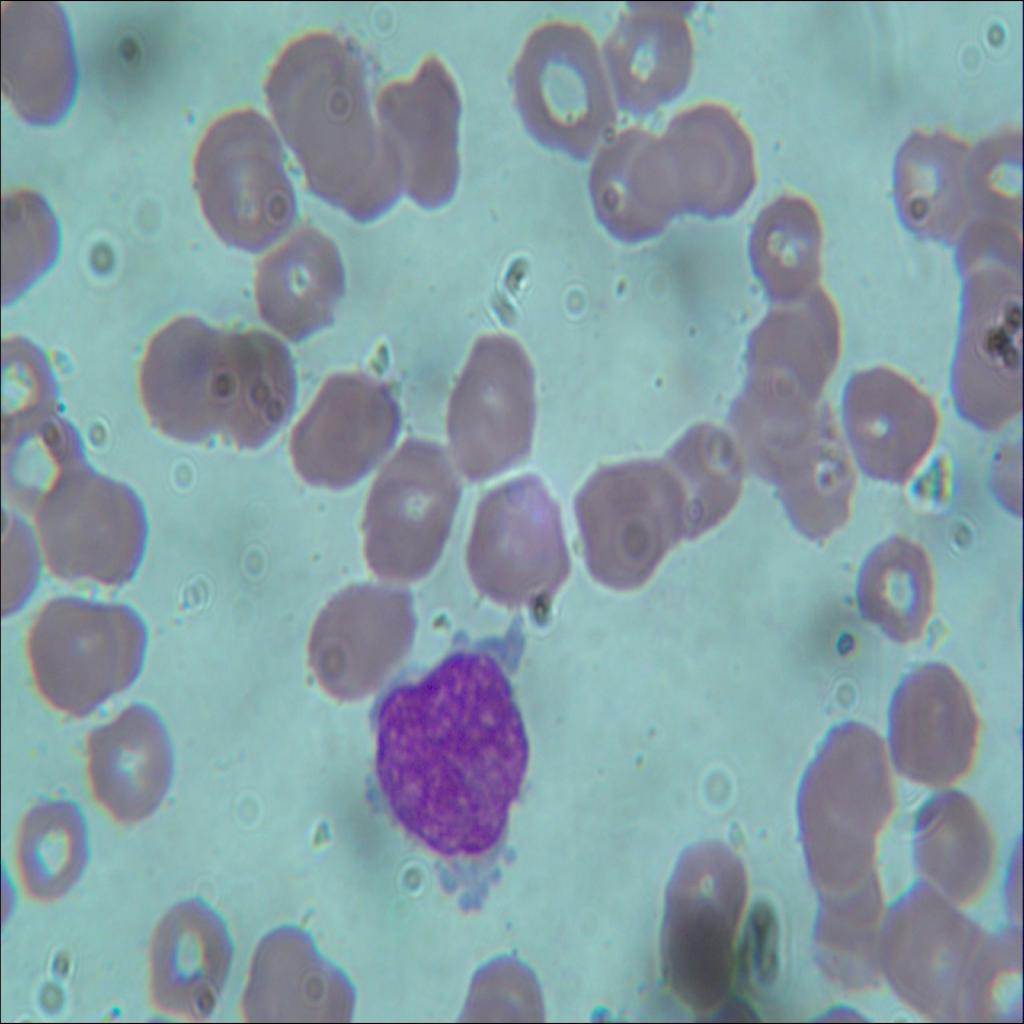Eritrosit: (466, 462, 575, 611), (286, 365, 404, 495), (435, 328, 533, 481), (506, 14, 614, 150), (298, 569, 418, 691), (360, 438, 458, 582), (834, 351, 938, 482), (571, 456, 669, 595), (33, 594, 139, 722), (381, 58, 470, 208), (888, 647, 984, 784), (39, 467, 144, 589), (648, 417, 742, 552), (664, 90, 761, 218), (141, 308, 231, 445), (206, 324, 298, 456), (601, 0, 697, 118), (888, 120, 974, 250), (911, 917, 1015, 1023), (796, 768, 883, 894), (764, 421, 855, 539), (0, 0, 76, 141), (306, 114, 408, 219), (90, 701, 176, 824), (906, 788, 998, 902), (270, 35, 364, 145), (586, 124, 678, 234), (858, 524, 940, 647), (756, 279, 838, 402), (258, 225, 346, 335), (144, 900, 230, 1010), (239, 912, 323, 1023), (0, 412, 86, 520), (813, 718, 896, 828), (188, 108, 278, 208), (664, 834, 749, 938), (742, 184, 818, 298), (201, 150, 293, 244), (661, 892, 733, 1011), (811, 851, 888, 962), (14, 792, 91, 900), (729, 382, 806, 488), (878, 879, 946, 988), (953, 132, 1013, 249), (0, 334, 54, 440)
Limfoblast: (374, 655, 530, 875)
